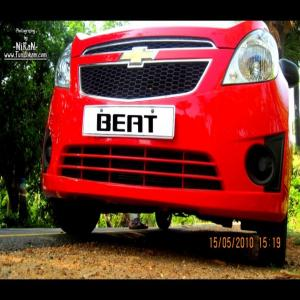Vehicle-registration-plate: (87, 100, 168, 143)
